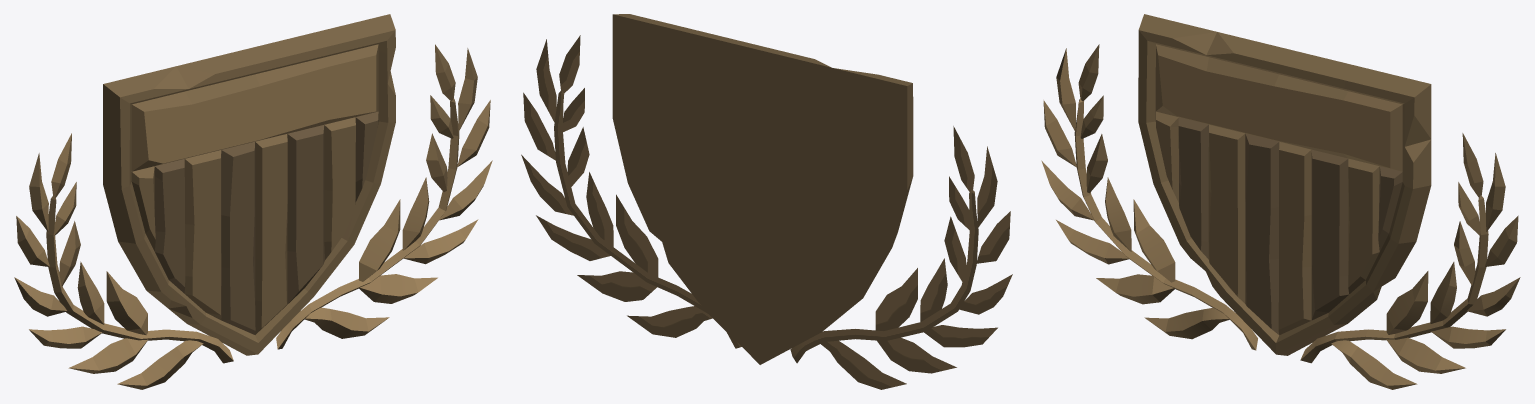
File: SM_Sign_Police_10.fbx
3 renders of one model, left to right at view 1: azimuth 30°, elevation 25°; view 2: azimuth 150°, elevation 25°; view 3: azimuth 330°, elevation 25°, orthographic. The views are drawn at different scales.
Parts seen in each view (by area): view 1: SM_Sign_Police_10; view 2: SM_Sign_Police_10; view 3: SM_Sign_Police_10.
Part boxes in pixels (x1,y1,x2,y2): SM_Sign_Police_10: (14, 14, 492, 389); SM_Sign_Police_10: (521, 14, 1012, 389); SM_Sign_Police_10: (1041, 14, 1520, 389).
Bounding box in the file's own units: 288 × 178 × 14.06.
